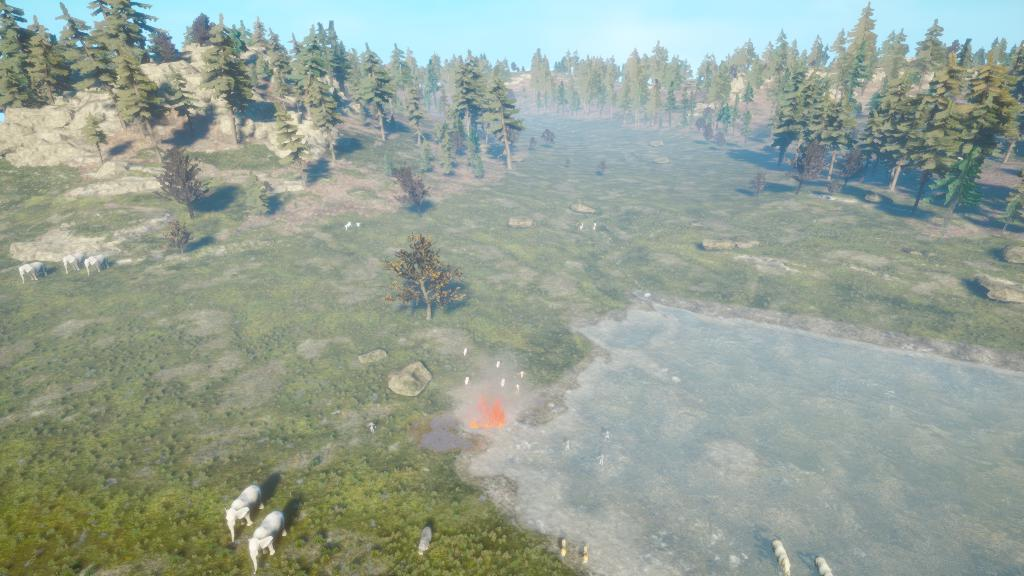Fire: (470, 396, 510, 430)
elephant: (240, 510, 291, 571), (221, 483, 268, 537), (13, 260, 48, 291), (81, 251, 113, 276), (58, 251, 89, 275)
hippopotamus: (413, 525, 436, 556)
human: (365, 419, 380, 437), (561, 437, 574, 455), (596, 452, 608, 467), (602, 428, 613, 444), (514, 383, 523, 396), (517, 369, 527, 380)
lion: (556, 535, 570, 559), (578, 543, 592, 566)
pig: (499, 376, 509, 388), (464, 374, 471, 389), (462, 347, 469, 358), (495, 359, 502, 370)
rhinoceros: (769, 536, 796, 575), (814, 554, 842, 575)
smoke: (457, 362, 532, 436)
zebra: (343, 221, 353, 231), (355, 221, 362, 230)
